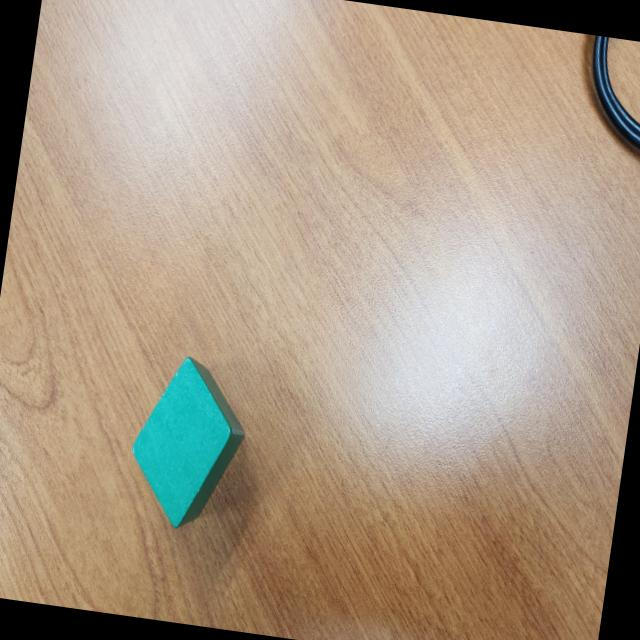green: (122, 350, 255, 536)
